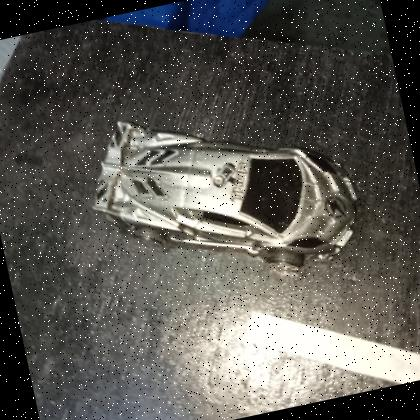Car: (72, 74, 372, 313)
